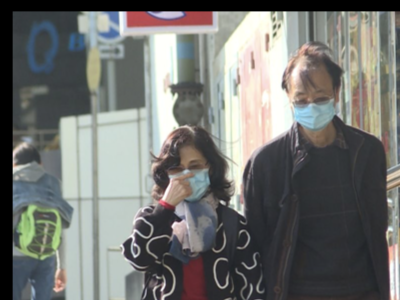with_mask: (166, 158, 211, 205), (288, 87, 336, 129)
